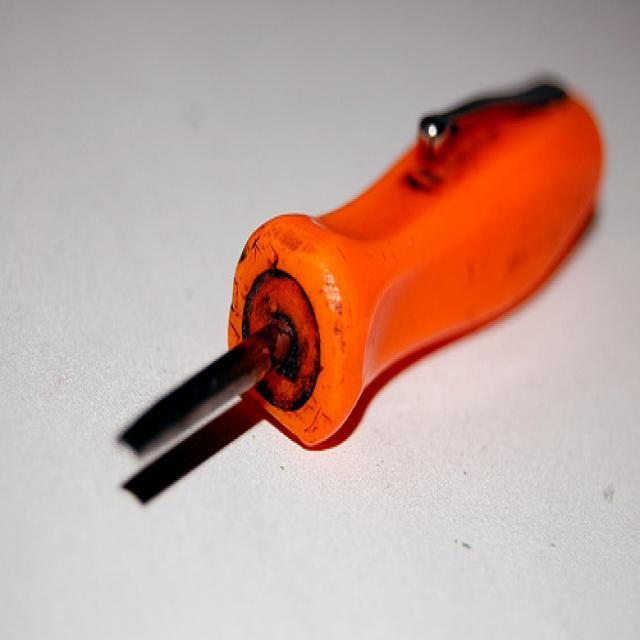screwdriver: (100, 60, 616, 516)
